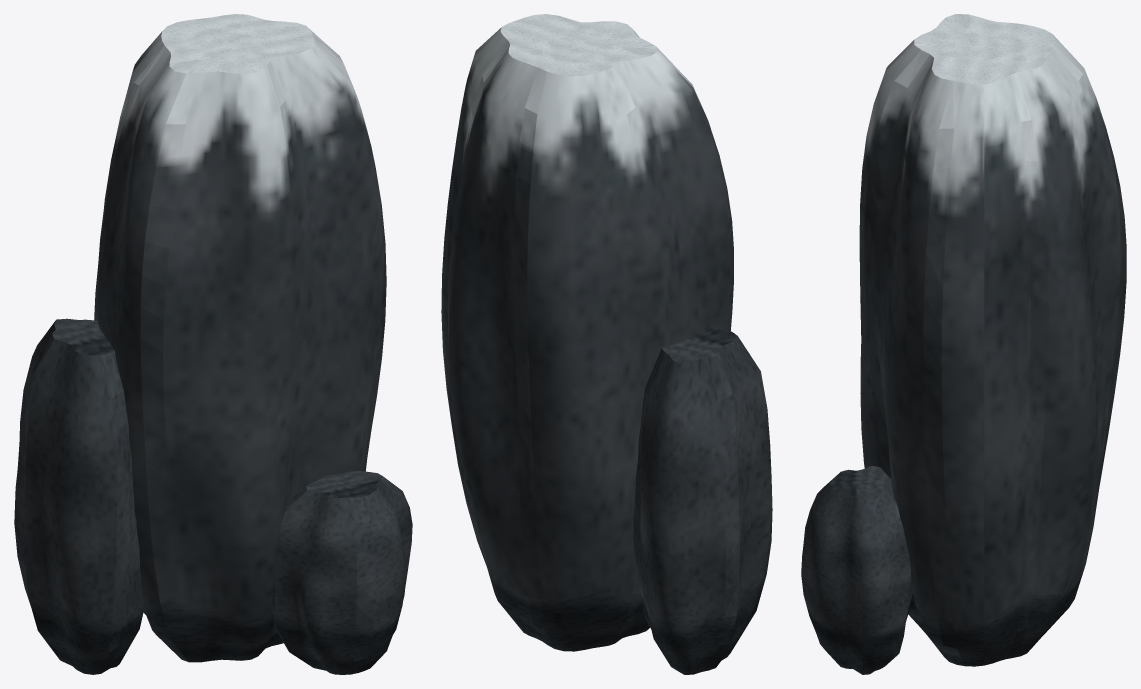
Rendered from fjord_seastack.glb.
The picture shows the model from 3 angles, left to right: view 1: azimuth 30°, elevation 25°; view 2: azimuth 150°, elevation 25°; view 3: azimuth 270°, elevation 25°; orthographic projection. The views are drawn at different scales.
Visible parts, largest first — view 1: fjord_seastack; view 2: fjord_seastack; view 3: fjord_seastack.
Boxes of the visible parts, x1=… form: fjord_seastack: x1=14, y1=14, x2=412, y2=674; fjord_seastack: x1=441, y1=14, x2=772, y2=674; fjord_seastack: x1=801, y1=14, x2=1126, y2=674.
Size of the model in its own units: 4.4 by 7.6 by 3.8.
1 material, 1 textured.
